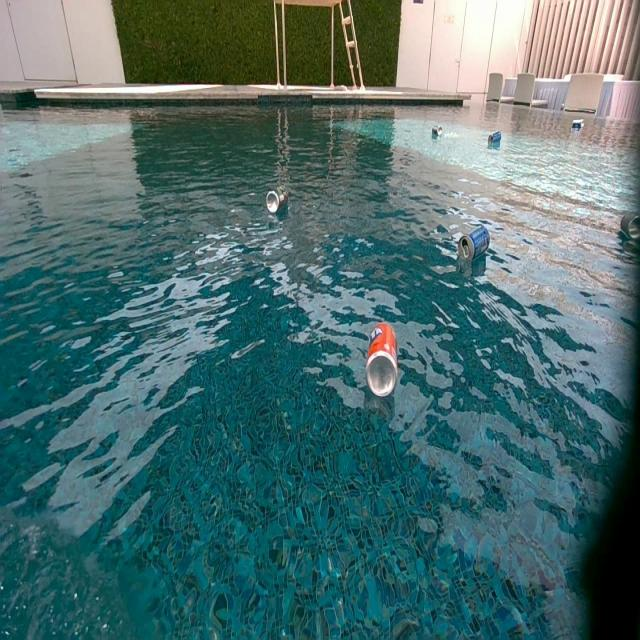Cans: (366, 322, 398, 398), (459, 227, 492, 263), (266, 190, 288, 213), (627, 212, 640, 240), (489, 132, 502, 145), (431, 126, 442, 140), (572, 119, 582, 129)
